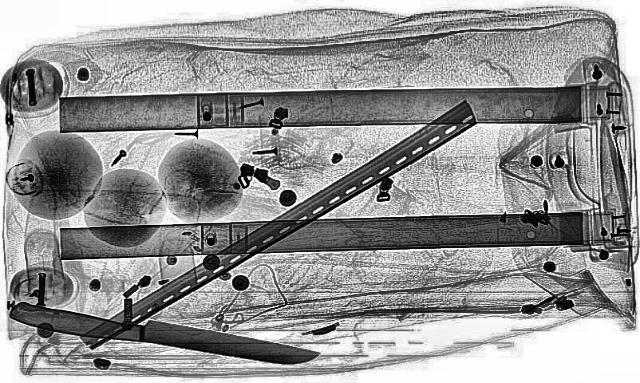Knife: (1, 296, 321, 372)
